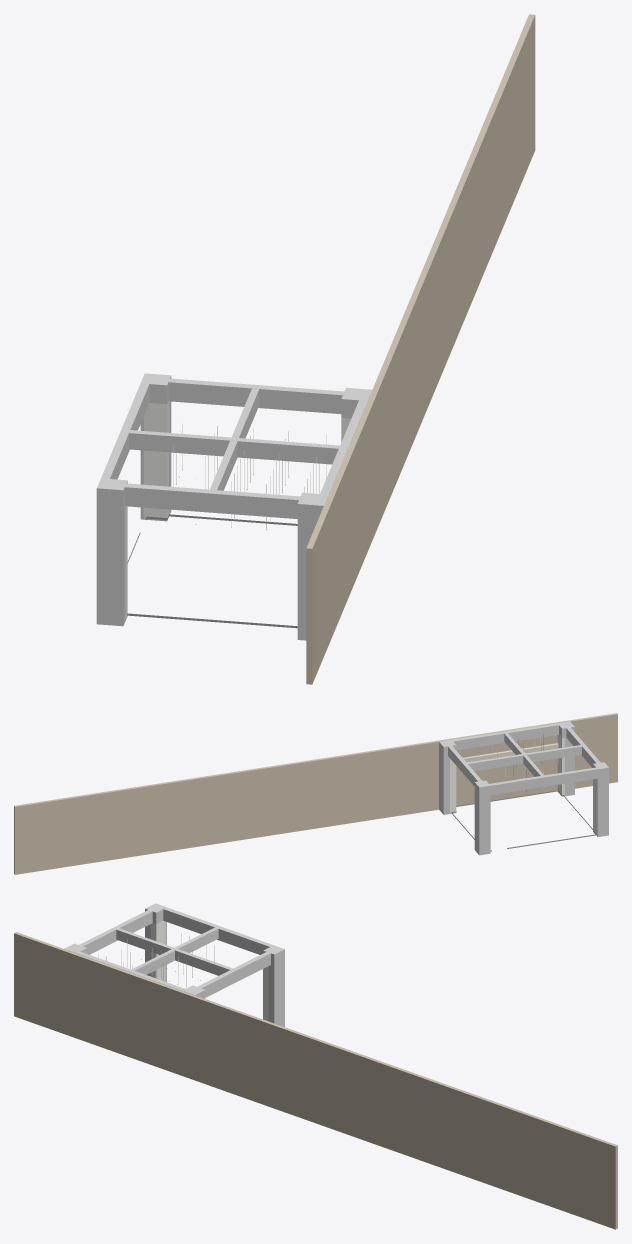
3 renders of one model, top to bottom at view 1: azimuth 30°, elevation 25°; view 2: azimuth 150°, elevation 25°; view 3: azimuth 270°, elevation 25°, orthographic. The views are drawn at different scales.
Visible parts, largest first — view 1: 基本墙:Q_200:1752040[3h8W3OqSz158k0ebLjggFC], 混凝土 - 矩形 - 柱:1-KZ18 900×800:2876426[3O$easxOD3mh17RgUiC$dE], 混凝土 - 矩形梁:1-KL4(3) 300x700:2878204[3O$easxOD3mh17RgUiC$Su], 混凝土 - 矩形梁:1-L8(1) 250x600:2878278[3O$easxOD3mh17RgUiC$Q2], 混凝土 - 矩形梁:1-KL5(3) 300x700:2878153[3O$easxOD3mh17RgUiC$SD], 混凝土 - 矩形 - 柱:1-KZ17 900×900:2876398[3O$easxOD3mh17RgUiC$ug], 基本墙:白色无机涂料 -2:3038377[1HUvvB4bb9keWcqddWVIUG], 混凝土 - 矩形梁:1-KL15(7) 300x700:2878084[3O$easxOD3mh17RgUiC$T0], 混凝土 - 矩形梁:1-L15(3) 250x600:2878305[3O$easxOD3mh17RgUiC$Qb], 混凝土 - 矩形 - 柱:1-KZ22 900×800:2876428[3O$easxOD3mh17RgUiC$d8], 楼板 21:楼板 1:2984338[1HUvvB4bb9keWcqddWVlAh], 混凝土 - 矩形梁:1-KL12(7) 300x700:2878171[3O$easxOD3mh17RgUiC$SV]; view 2: 基本墙:Q_200:1752040[3h8W3OqSz158k0ebLjggFC], 混凝土 - 矩形梁:1-KL15(7) 300x700:2878084[3O$easxOD3mh17RgUiC$T0], 混凝土 - 矩形 - 柱:1-KZ22 900×800:2876428[3O$easxOD3mh17RgUiC$d8], 混凝土 - 矩形梁:1-KL12(7) 300x700:2878171[3O$easxOD3mh17RgUiC$SV], 混凝土 - 矩形梁:1-L15(3) 250x600:2878305[3O$easxOD3mh17RgUiC$Qb], 混凝土 - 矩形 - 柱:1-KZ18 900×800:2876426[3O$easxOD3mh17RgUiC$dE], 混凝土 - 矩形 - 柱:1-KZ21 900×900:2876390[3O$easxOD3mh17RgUiC$uY], 混凝土 - 矩形 - 柱:1-KZ17 900×900:2876398[3O$easxOD3mh17RgUiC$ug], 常规模型 126:常规模型 71:3105778[1HUvvB4bb9keWcqddWV1ZB], 混凝土 - 矩形梁:1-KL5(3) 300x700:2878153[3O$easxOD3mh17RgUiC$SD], 混凝土 - 矩形梁:1-L8(1) 250x600:2878278[3O$easxOD3mh17RgUiC$Q2], 楼板 21:楼板 1:2984338[1HUvvB4bb9keWcqddWVlAh] (+3 smaller); view 3: 基本墙:Q_200:1752040[3h8W3OqSz158k0ebLjggFC], 混凝土 - 矩形梁:1-KL15(7) 300x700:2878084[3O$easxOD3mh17RgUiC$T0], 混凝土 - 矩形梁:1-L15(3) 250x600:2878305[3O$easxOD3mh17RgUiC$Qb], 混凝土 - 矩形 - 柱:1-KZ22 900×800:2876428[3O$easxOD3mh17RgUiC$d8], 混凝土 - 矩形梁:1-KL5(3) 300x700:2878153[3O$easxOD3mh17RgUiC$SD], 混凝土 - 矩形梁:1-L8(1) 250x600:2878278[3O$easxOD3mh17RgUiC$Q2], 混凝土 - 矩形梁:1-KL4(3) 300x700:2878204[3O$easxOD3mh17RgUiC$Su], 混凝土 - 矩形 - 柱:1-KZ18 900×800:2876426[3O$easxOD3mh17RgUiC$dE].
Part boxes in pixels (x1,y1,x2,y2): 基本墙:Q_200:1752040[3h8W3OqSz158k0ebLjggFC]: [306, 14, 535, 684]; 混凝土 - 矩形 - 柱:1-KZ18 900×800:2876426[3O$easxOD3mh17RgUiC$dE]: [96, 478, 127, 626]; 混凝土 - 矩形梁:1-KL4(3) 300x700:2878204[3O$easxOD3mh17RgUiC$Su]: [124, 483, 300, 518]; 混凝土 - 矩形梁:1-L8(1) 250x600:2878278[3O$easxOD3mh17RgUiC$Q2]: [129, 430, 339, 464]; 混凝土 - 矩形梁:1-KL5(3) 300x700:2878153[3O$easxOD3mh17RgUiC$SD]: [168, 378, 343, 413]; 混凝土 - 矩形 - 柱:1-KZ17 900×900:2876398[3O$easxOD3mh17RgUiC$ug]: [297, 492, 328, 640]; 基本墙:白色无机涂料 -2:3038377[1HUvvB4bb9keWcqddWVIUG]: [143, 403, 166, 518]; 混凝土 - 矩形梁:1-KL15(7) 300x700:2878084[3O$easxOD3mh17RgUiC$T0]: [101, 383, 149, 479]; 混凝土 - 矩形梁:1-L15(3) 250x600:2878305[3O$easxOD3mh17RgUiC$Qb]: [210, 388, 259, 490]; 混凝土 - 矩形 - 柱:1-KZ22 900×800:2876428[3O$easxOD3mh17RgUiC$d8]: [140, 373, 171, 521]; 楼板 21:楼板 1:2984338[1HUvvB4bb9keWcqddWVlAh]: [127, 514, 297, 628]; 混凝土 - 矩形梁:1-KL12(7) 300x700:2878171[3O$easxOD3mh17RgUiC$SV]: [320, 400, 367, 494]; 基本墙:Q_200:1752040[3h8W3OqSz158k0ebLjggFC]: [14, 713, 617, 874]; 混凝土 - 矩形梁:1-KL15(7) 300x700:2878084[3O$easxOD3mh17RgUiC$T0]: [489, 767, 597, 794]; 混凝土 - 矩形 - 柱:1-KZ22 900×800:2876428[3O$easxOD3mh17RgUiC$d8]: [474, 780, 490, 855]; 混凝土 - 矩形梁:1-KL12(7) 300x700:2878171[3O$easxOD3mh17RgUiC$SV]: [452, 723, 558, 750]; 混凝土 - 矩形梁:1-L15(3) 250x600:2878305[3O$easxOD3mh17RgUiC$Qb]: [467, 745, 581, 771]; 混凝土 - 矩形 - 柱:1-KZ18 900×800:2876426[3O$easxOD3mh17RgUiC$dE]: [593, 762, 608, 836]; 混凝土 - 矩形 - 柱:1-KZ21 900×900:2876390[3O$easxOD3mh17RgUiC$uY]: [439, 739, 456, 814]; 混凝土 - 矩形 - 柱:1-KZ17 900×900:2876398[3O$easxOD3mh17RgUiC$ug]: [558, 721, 574, 796]; 常规模型 126:常规模型 71:3105778[1HUvvB4bb9keWcqddWV1ZB]: [463, 743, 558, 762]; 混凝土 - 矩形梁:1-KL5(3) 300x700:2878153[3O$easxOD3mh17RgUiC$SD]: [448, 745, 481, 786]; 混凝土 - 矩形梁:1-L8(1) 250x600:2878278[3O$easxOD3mh17RgUiC$Q2]: [504, 733, 543, 776]; 楼板 21:楼板 1:2984338[1HUvvB4bb9keWcqddWVlAh]: [451, 790, 596, 851]; 基本墙:Q_200:1752040[3h8W3OqSz158k0ebLjggFC]: [14, 932, 617, 1229]; 混凝土 - 矩形梁:1-KL15(7) 300x700:2878084[3O$easxOD3mh17RgUiC$T0]: [163, 907, 273, 954]; 混凝土 - 矩形梁:1-L15(3) 250x600:2878305[3O$easxOD3mh17RgUiC$Qb]: [116, 928, 232, 975]; 混凝土 - 矩形 - 柱:1-KZ22 900×800:2876428[3O$easxOD3mh17RgUiC$d8]: [263, 945, 284, 1026]; 混凝土 - 矩形梁:1-KL5(3) 300x700:2878153[3O$easxOD3mh17RgUiC$SD]: [197, 952, 270, 997]; 混凝土 - 矩形梁:1-L8(1) 250x600:2878278[3O$easxOD3mh17RgUiC$Q2]: [131, 927, 218, 974]; 混凝土 - 矩形梁:1-KL4(3) 300x700:2878204[3O$easxOD3mh17RgUiC$Su]: [79, 910, 152, 954]; 混凝土 - 矩形 - 柱:1-KZ18 900×800:2876426[3O$easxOD3mh17RgUiC$dE]: [145, 903, 166, 982].
Size of the model in its own units: 31.33 by 5 by 32.89.
